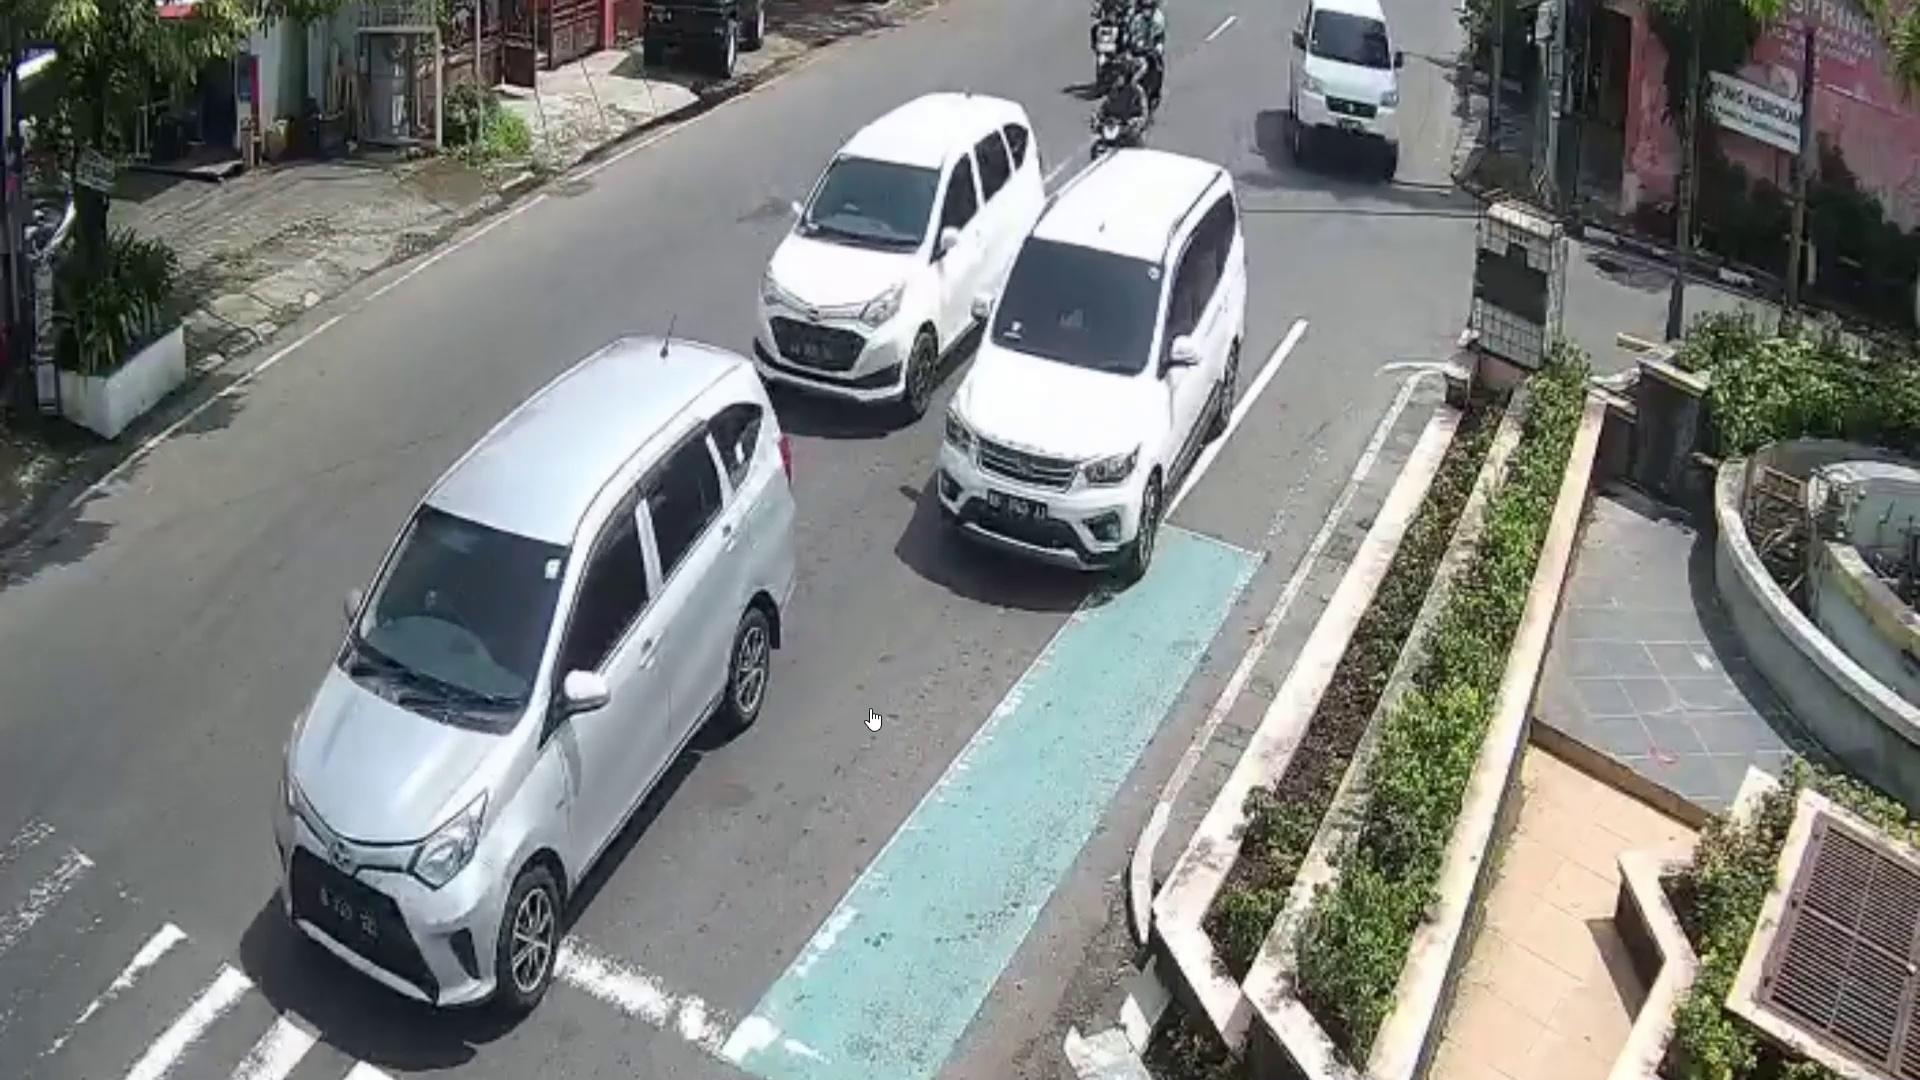car: (280, 336, 796, 1013), (936, 144, 1249, 585), (756, 92, 1047, 419), (1287, 0, 1403, 189)
